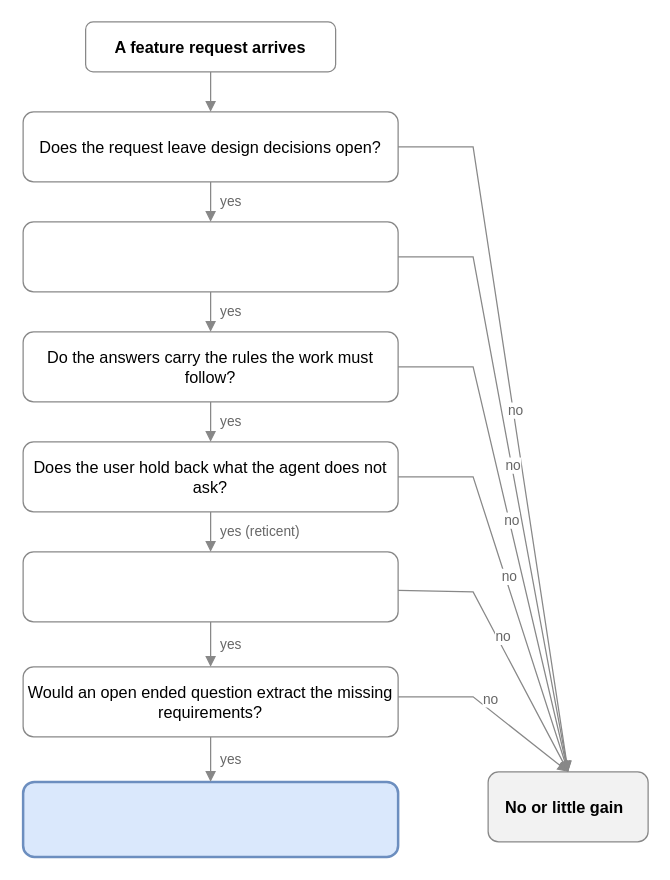
Image size: 670x880. Some labels were removed from this diagram. Each missing label, with the box of its shape:
Is someone there to answer the agent's questions?: (22, 221, 398, 292)
Is the agent's default guess wrong on some requirement?: (22, 551, 398, 622)
Significant gains over plain: (21, 780, 399, 858)
